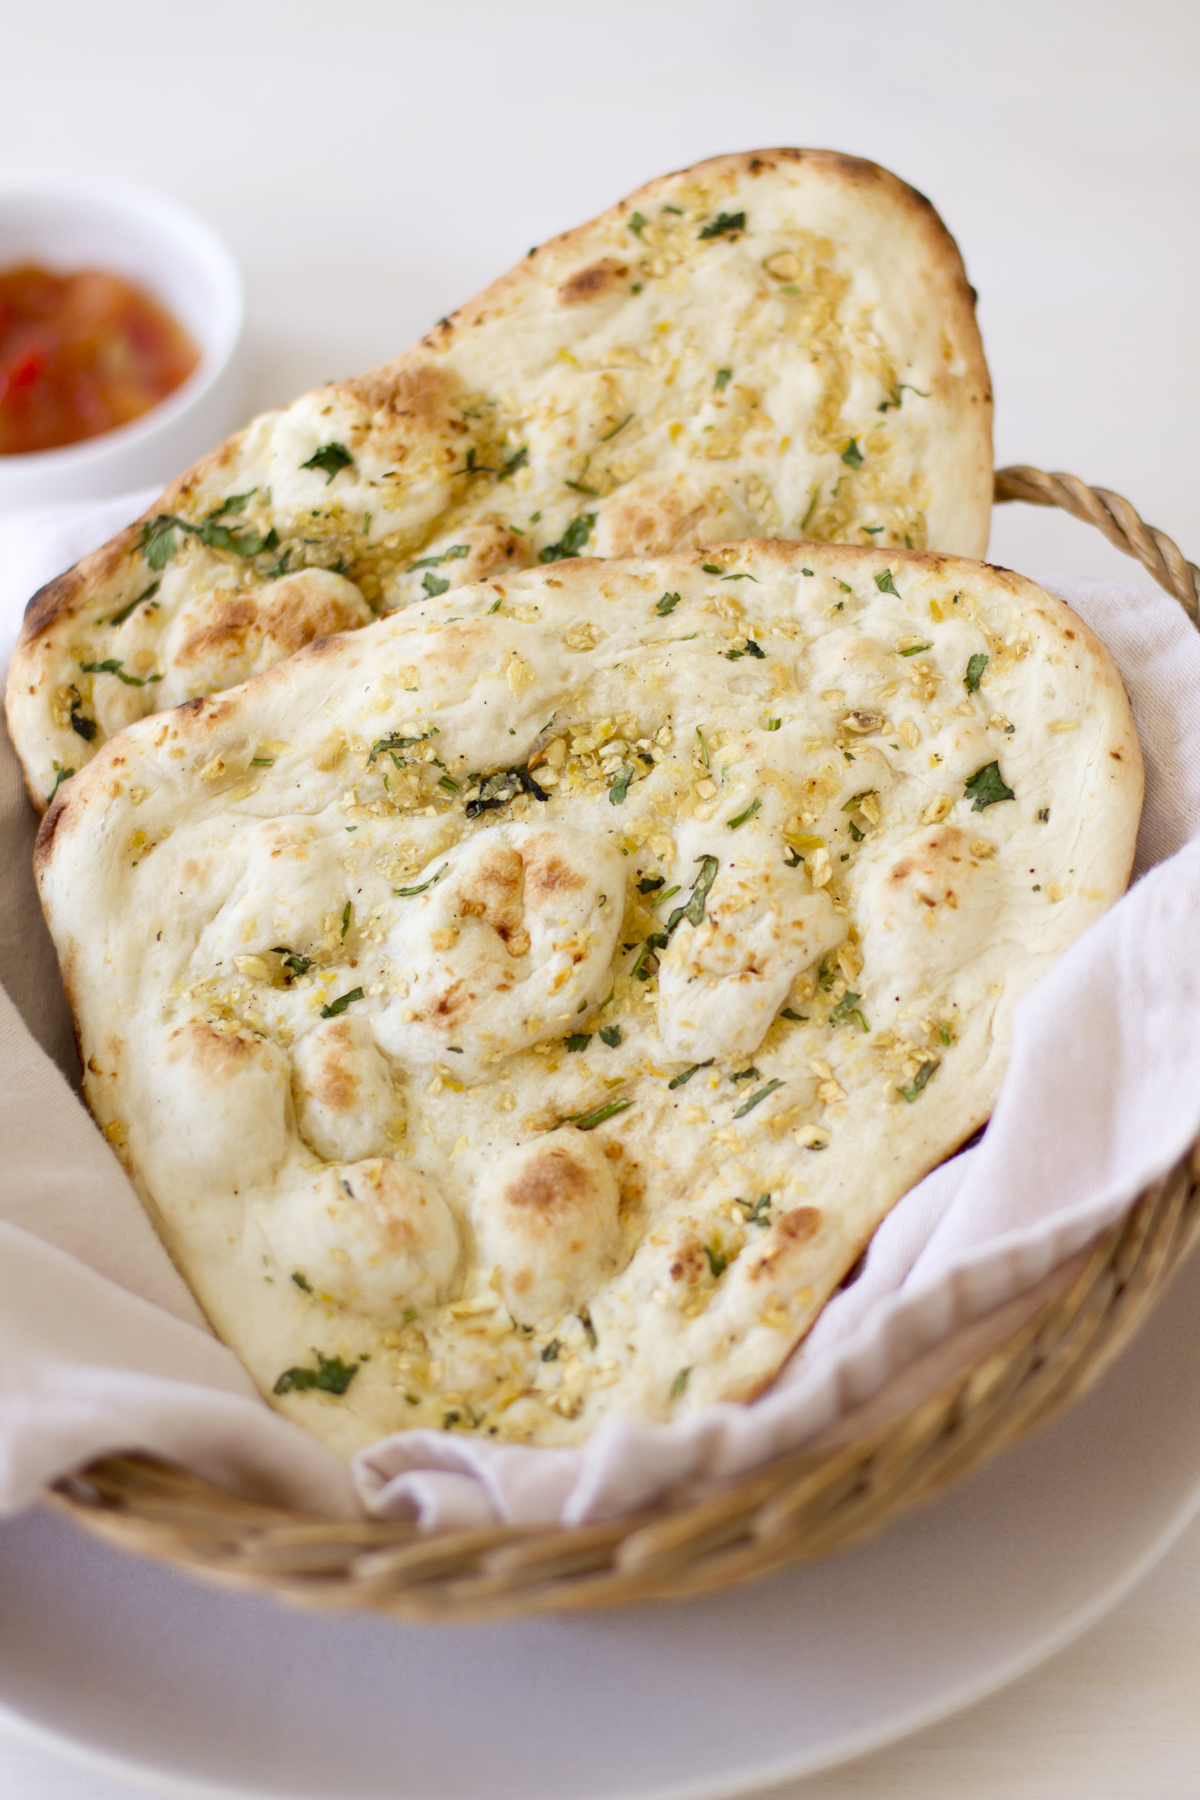slice of bread: (7, 534, 1196, 1487), (32, 125, 1030, 771)
